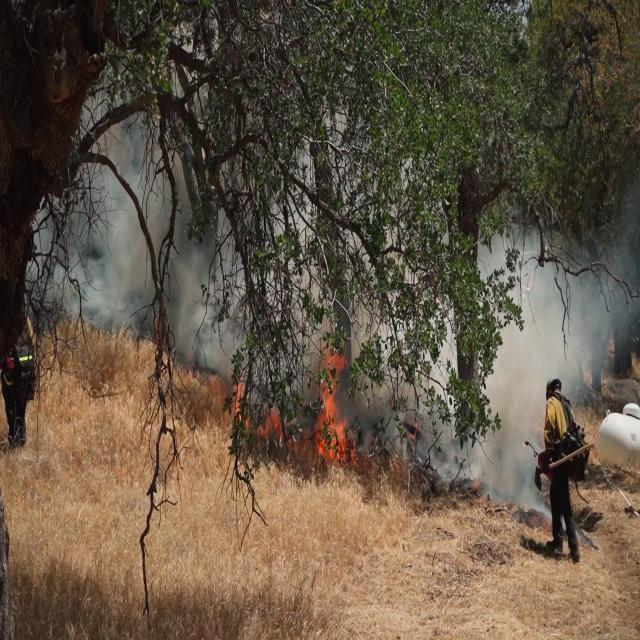Fire: (311, 373, 352, 461)
Smoke: (464, 223, 640, 498), (45, 144, 216, 356)
